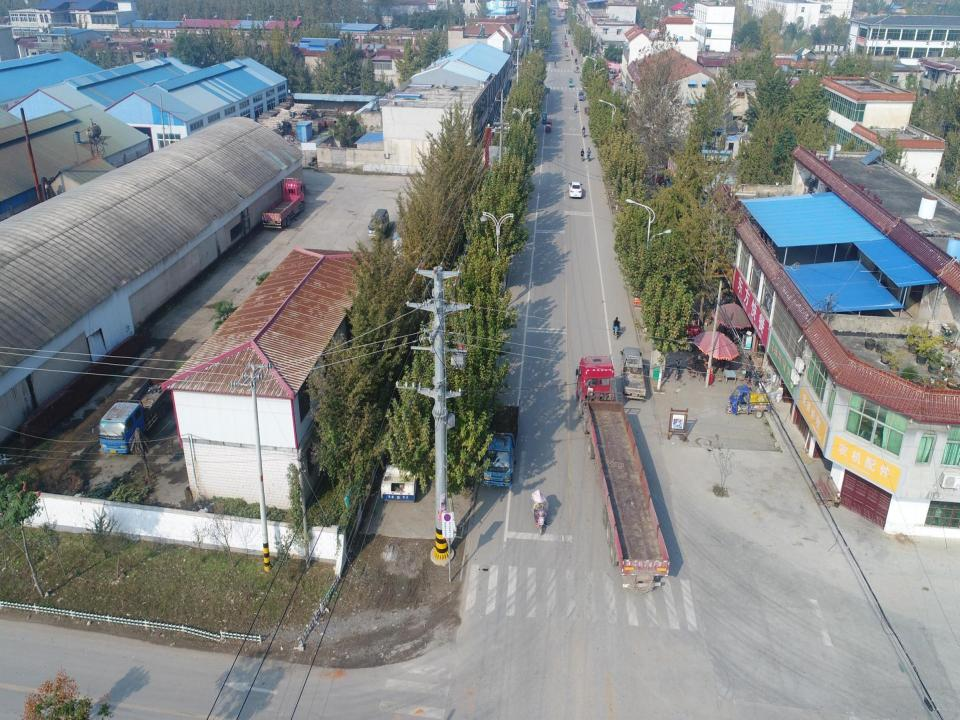car: (569, 180, 582, 199)
truck: (576, 354, 670, 594), (98, 376, 172, 456), (481, 403, 520, 487), (261, 178, 305, 232), (620, 347, 645, 402)
van: (368, 208, 390, 240)
